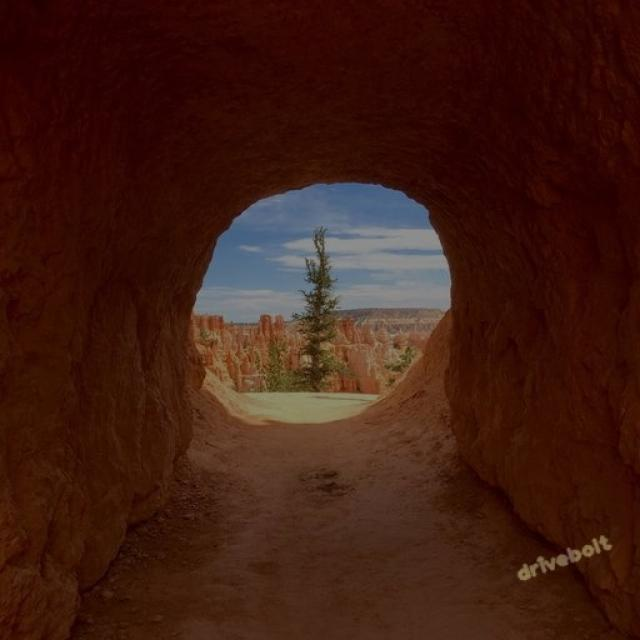watermark: (513, 532, 613, 584)
